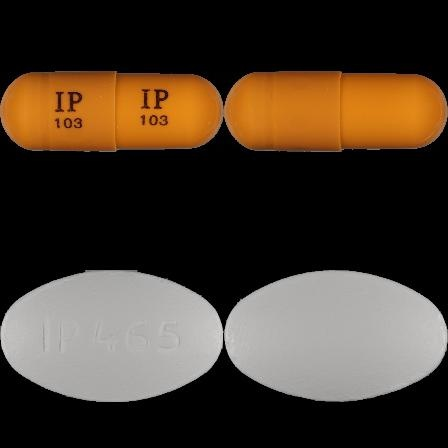33261-050: (0, 0, 224, 224)
